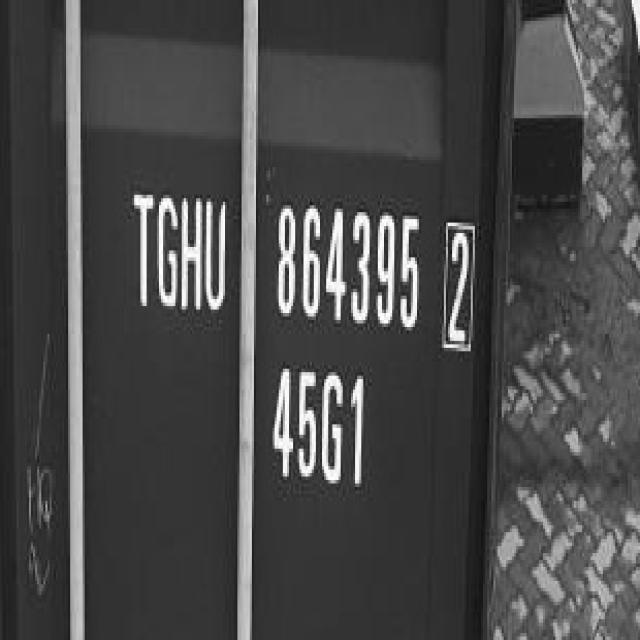dv: (436, 213, 480, 368)
owner: (127, 178, 229, 324)
serial: (269, 187, 420, 346)
size: (269, 358, 372, 502)
